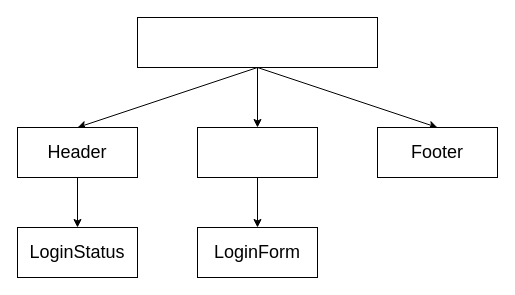
Some shapes in this 515 by 295 pixel diagram are drawn without their labels. The shapes that lost their labels are listed below. From the top down, each one's centre as x and y in pixels, then its label:
point 257,42: App
point 257,152: MainArticle
